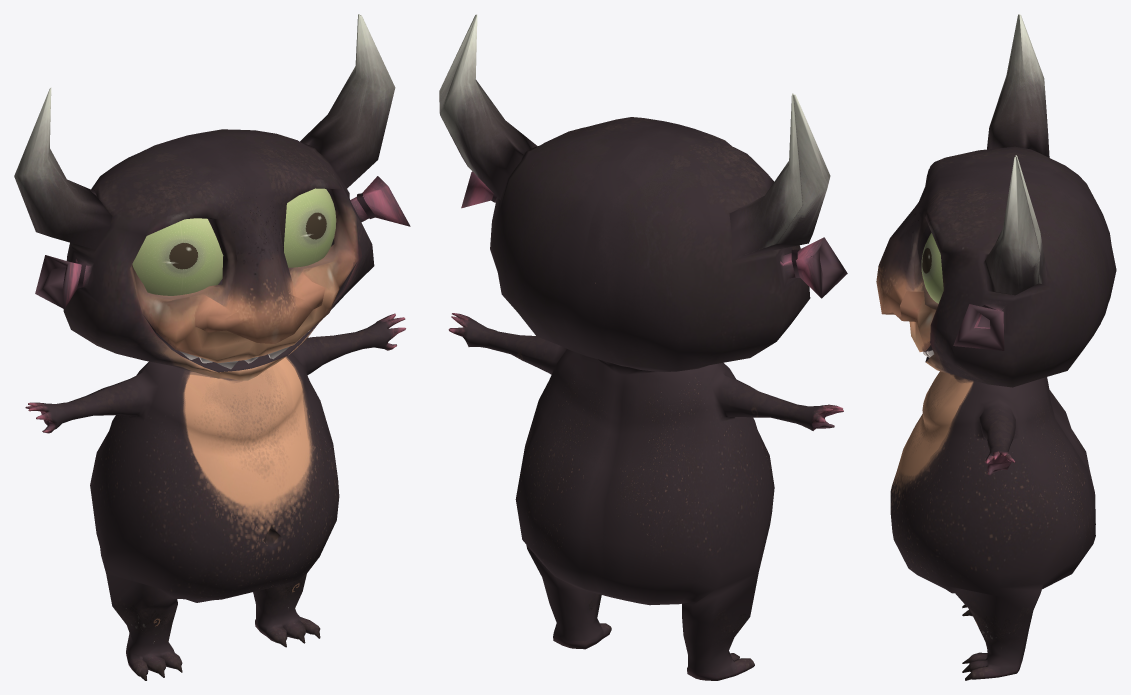
Rendered from MonsterFBX.fbx.
The picture shows the model from 3 angles, left to right: view 1: azimuth 30°, elevation 25°; view 2: azimuth 150°, elevation 25°; view 3: azimuth 270°, elevation 25°; orthographic projection. The views are drawn at different scales.
Visible parts, largest first — view 1: Cube.001_Cube.002, Sphere.001_Sphere.000, Sphere_Sphere.004; view 2: Cube.001_Cube.002; view 3: Cube.001_Cube.002, Sphere_Sphere.004.
Part boxes in pixels (x1=…): Cube.001_Cube.002: x1=14, y1=14, x2=410, y2=680; Sphere.001_Sphere.000: x1=132, y1=218, x2=223, y2=295; Sphere_Sphere.004: x1=284, y1=188, x2=336, y2=267; Cube.001_Cube.002: x1=439, y1=14, x2=847, y2=680; Cube.001_Cube.002: x1=876, y1=14, x2=1116, y2=680; Sphere_Sphere.004: x1=921, y1=233, x2=943, y2=303.
Size of the model in its own units: 682 by 1018 by 398.
2 materials, 2 textured.
